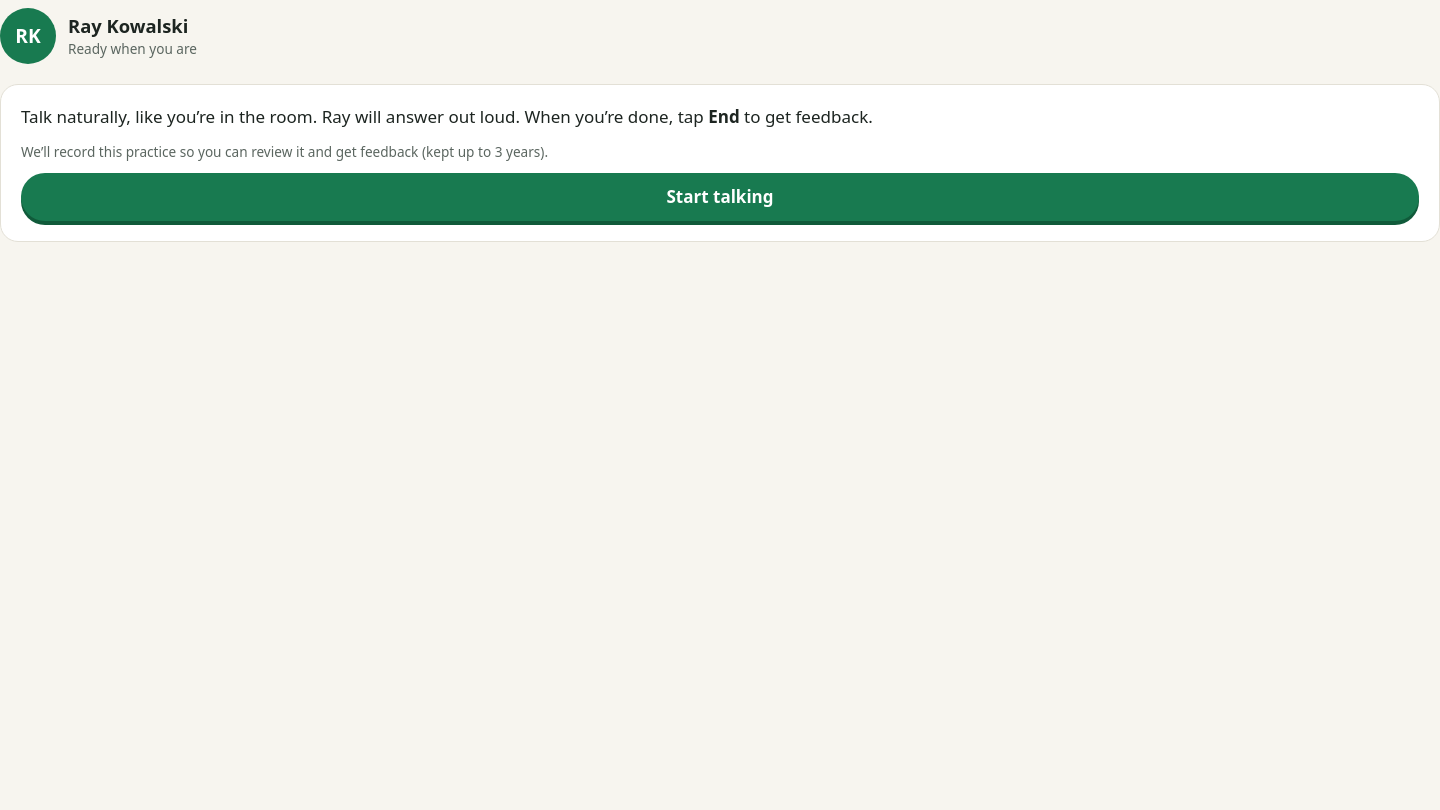
it: two-way voice › a one-word reply right after the patient finishes is a turn, not his echo
Click the button "Start talking": (720, 197) [21,173,1419,221]
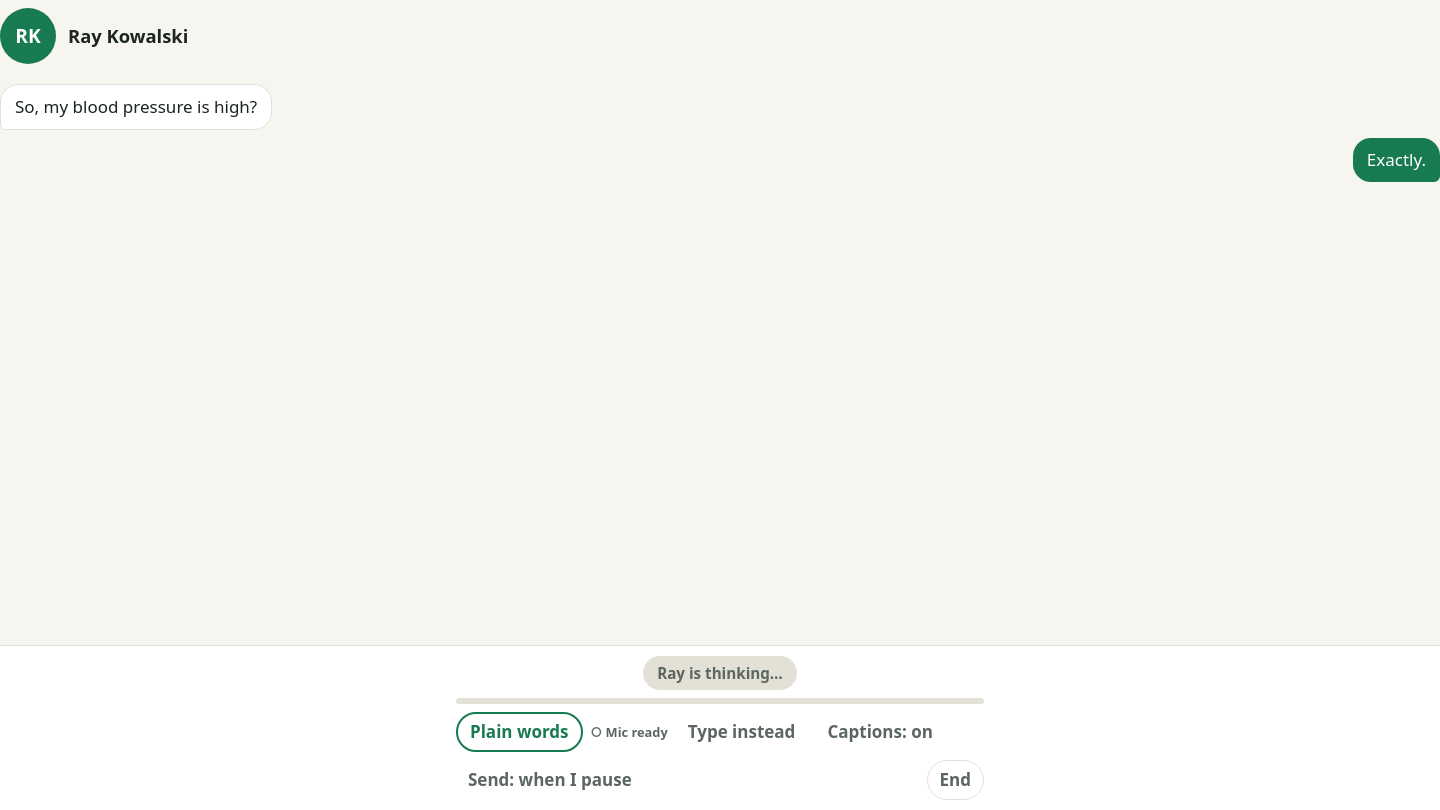
Now the text "So, my blood pressure is high?" is shown, box [0,84,272,130]
Now the text "Exactly." is shown, box [1353,138,1439,182]
